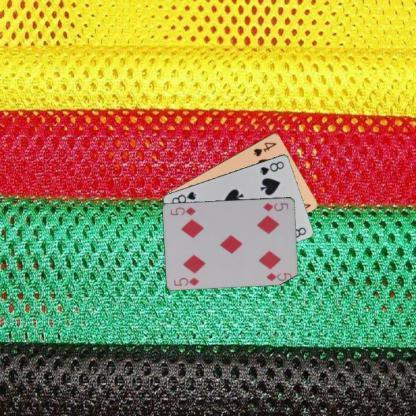4s: (251, 139, 278, 158)
5d: (172, 274, 200, 288), (260, 200, 290, 212)
8s: (257, 158, 286, 176)
